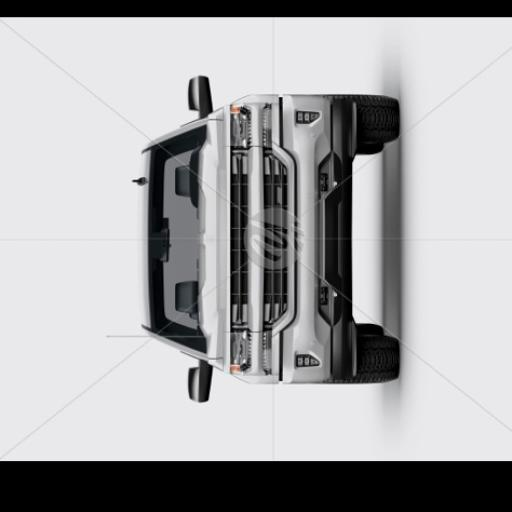truck: (138, 76, 398, 400)
